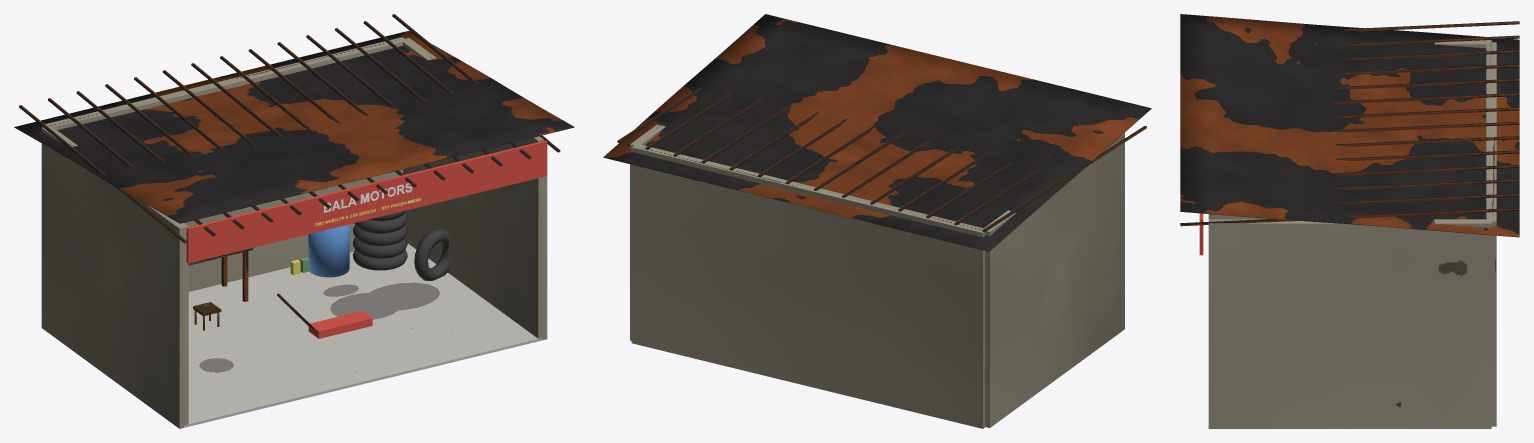
The model's file is bala_workshop.glb.
3 renders of one model, left to right at view 1: azimuth 30°, elevation 25°; view 2: azimuth 150°, elevation 25°; view 3: azimuth 270°, elevation 25°, orthographic. The views are drawn at different scales.
Visible parts, largest first — view 1: bala_workshop; view 2: bala_workshop; view 3: bala_workshop.
Boxes of the visible parts, left/top/right/bottom form: bala_workshop: left=14, top=14, right=574, bottom=428; bala_workshop: left=603, top=14, right=1151, bottom=428; bala_workshop: left=1180, top=14, right=1519, bottom=428.
Size of the model in its own units: 6.6 by 3.52 by 4.8.
Materials: 44 (3 with a texture image).
